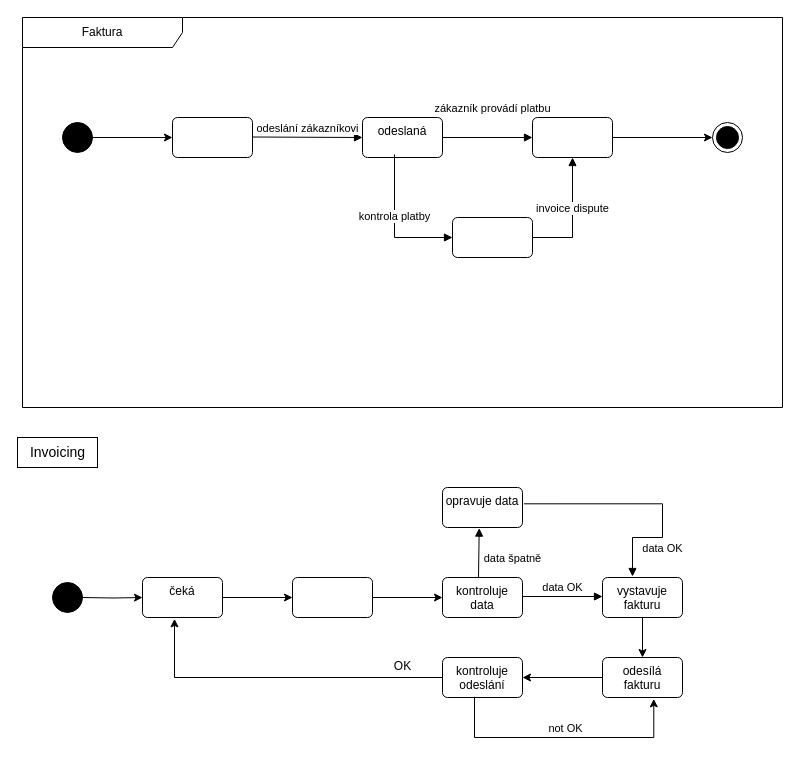
The diagram is 800 pixels wide and 763 high, and some of its shapes have lost their labels. The box of each missing label's shape, as (x1, y1, x2, y2) in pixels:
nezaplacená: (452, 216, 532, 258)
převezme dodací list: (292, 576, 372, 618)
vystavená: (172, 116, 252, 158)
zaplacená: (532, 116, 612, 158)
